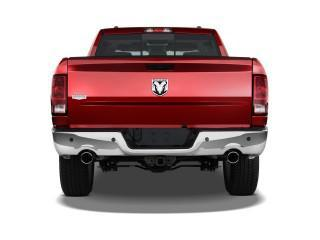ram: (150, 73, 174, 99)
